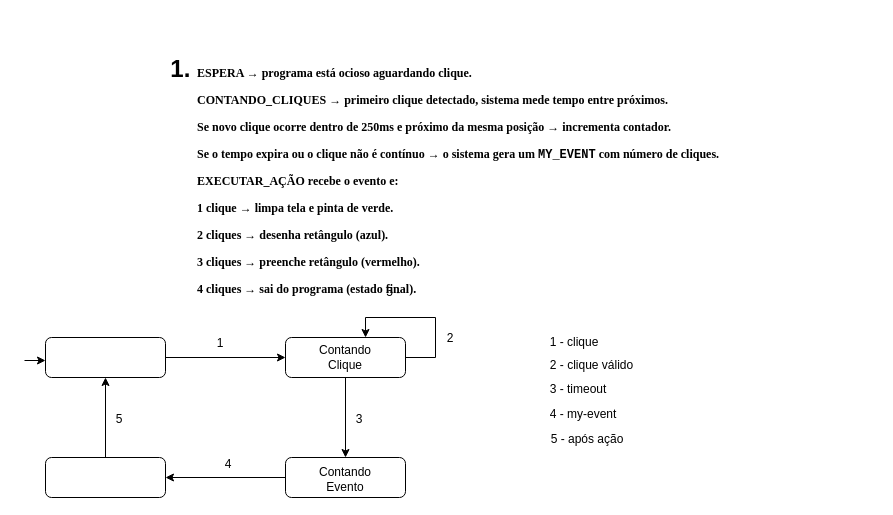
This 893x515 diagram has some shape labels left out. Here are the shapes that lost their labels. From the top down, the centre of each, then its label:
point 105,357: Espera
point 105,477: Executando Ação
